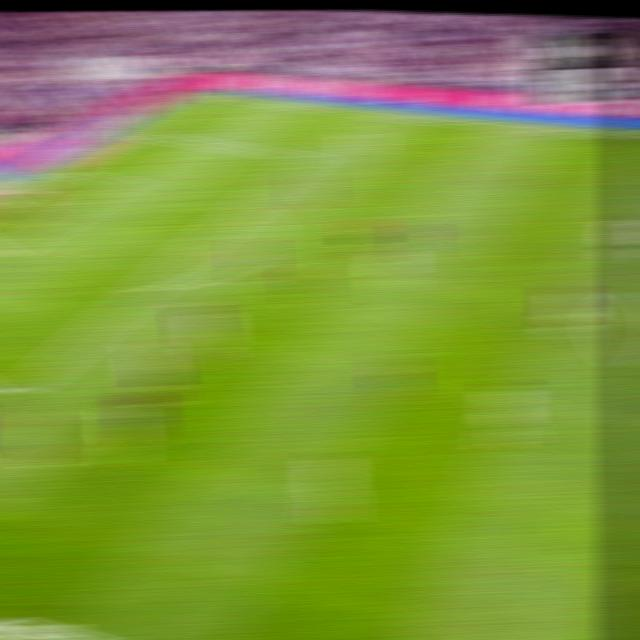bigarea_bottom_inner: (1, 377, 35, 405)
bigarea_top_inner: (295, 149, 322, 163)
bigarea_top_outter: (123, 124, 153, 138)
bottom_arc_area_intersection: (131, 279, 163, 297)
corner: (191, 88, 223, 99)
smallarea_top_inner: (109, 173, 140, 188)
top_arc_area_intersection: (230, 200, 260, 217)
